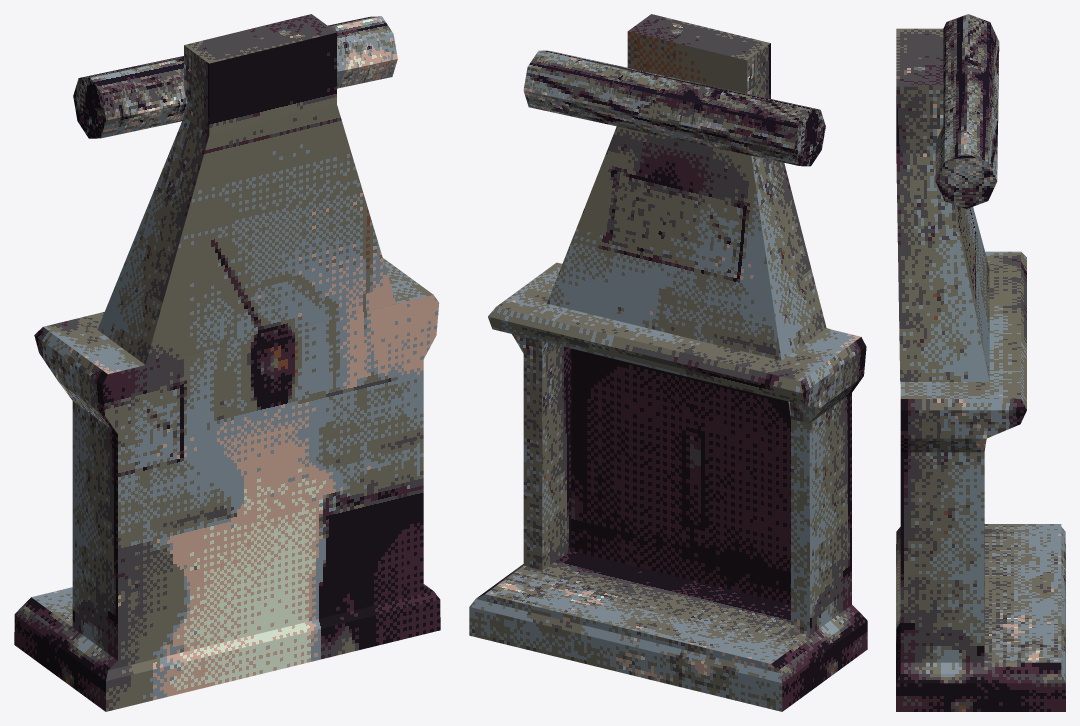
Rendered from furnace.gltf.
3 views of the same model, side by side, from view 1: azimuth 30°, elevation 25°; view 2: azimuth 150°, elevation 25°; view 3: azimuth 270°, elevation 25° (orthographic). The views are drawn at different scales.
Parts seen in each view (by area): view 1: furnace, furnaceLog; view 2: furnace, furnaceLog; view 3: furnace, furnaceLog.
Part boxes in pixels (<box>): furnace: <box>14,14,440,711</box>; furnaceLog: <box>73,16,397,138</box>; furnace: <box>469,14,867,711</box>; furnaceLog: <box>523,50,825,166</box>; furnace: <box>896,28,1065,711</box>; furnaceLog: <box>935,14,999,208</box>.
Bounding box in the file's own units: 1.87 × 3.3 × 0.8783.
2 materials, 2 textured.
